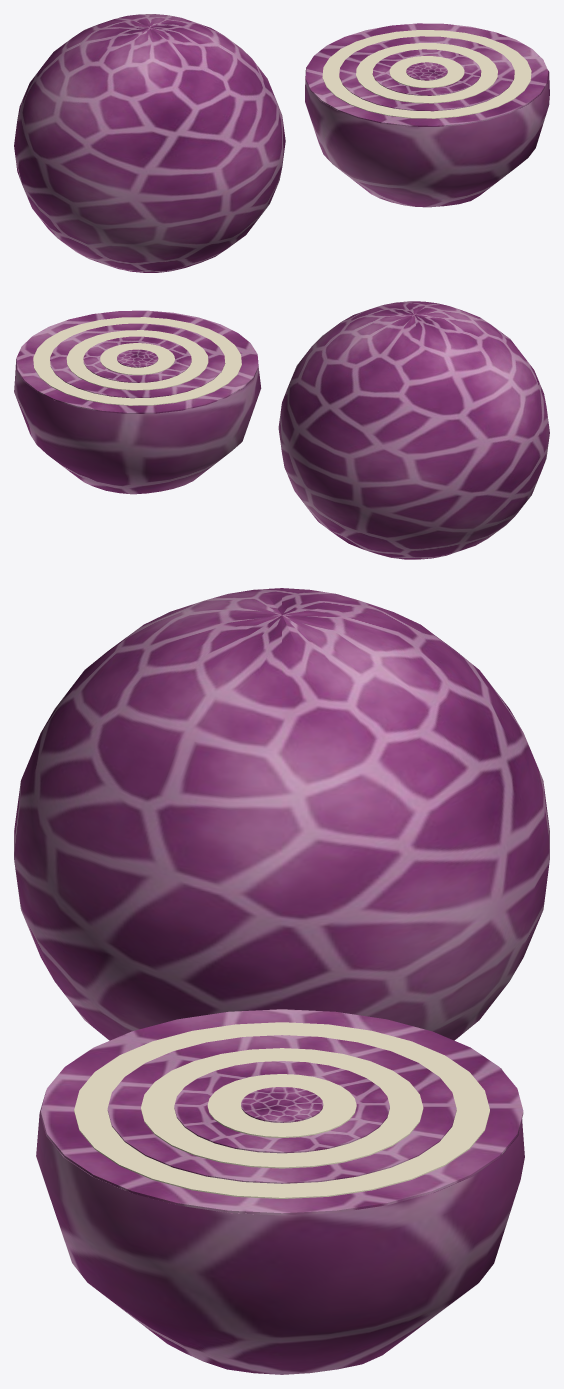
Rendered from veg_cabbage_red_halved.glb.
3 views of the same model, one above another, from view 1: azimuth 30°, elevation 25°; view 2: azimuth 150°, elevation 25°; view 3: azimuth 270°, elevation 25° (orthographic). The views are drawn at different scales.
Parts seen in each view (by area): view 1: veg_cabbage_red_halved; view 2: veg_cabbage_red_halved; view 3: veg_cabbage_red_halved.
Part boxes in pixels (x1,y1,x2,y2): veg_cabbage_red_halved: (14,14,549,272); veg_cabbage_red_halved: (14,301,549,559); veg_cabbage_red_halved: (14,588,549,1374).
Bounding box in the file's own units: 0.3622 × 0.1602 × 0.1688.
2 materials, 1 textured.
